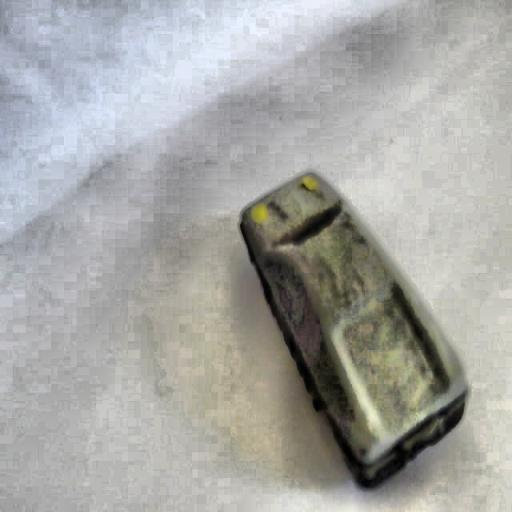normal_car: (236, 169, 470, 493)
